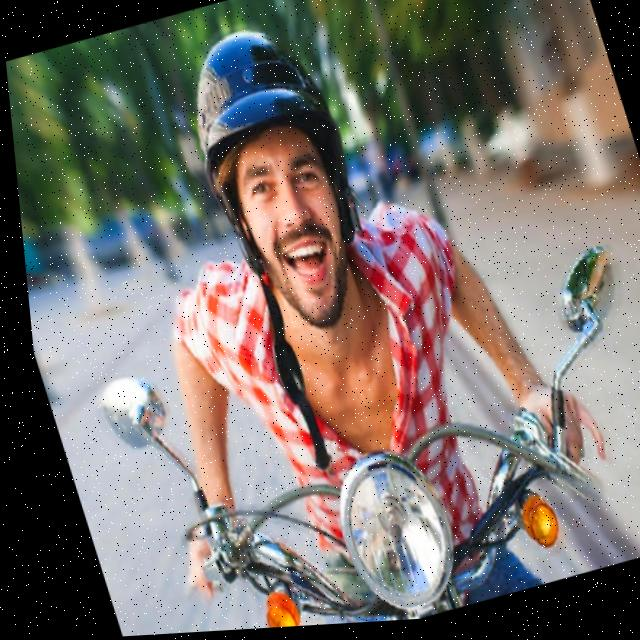illegal_helmet: (154, 2, 437, 497)
